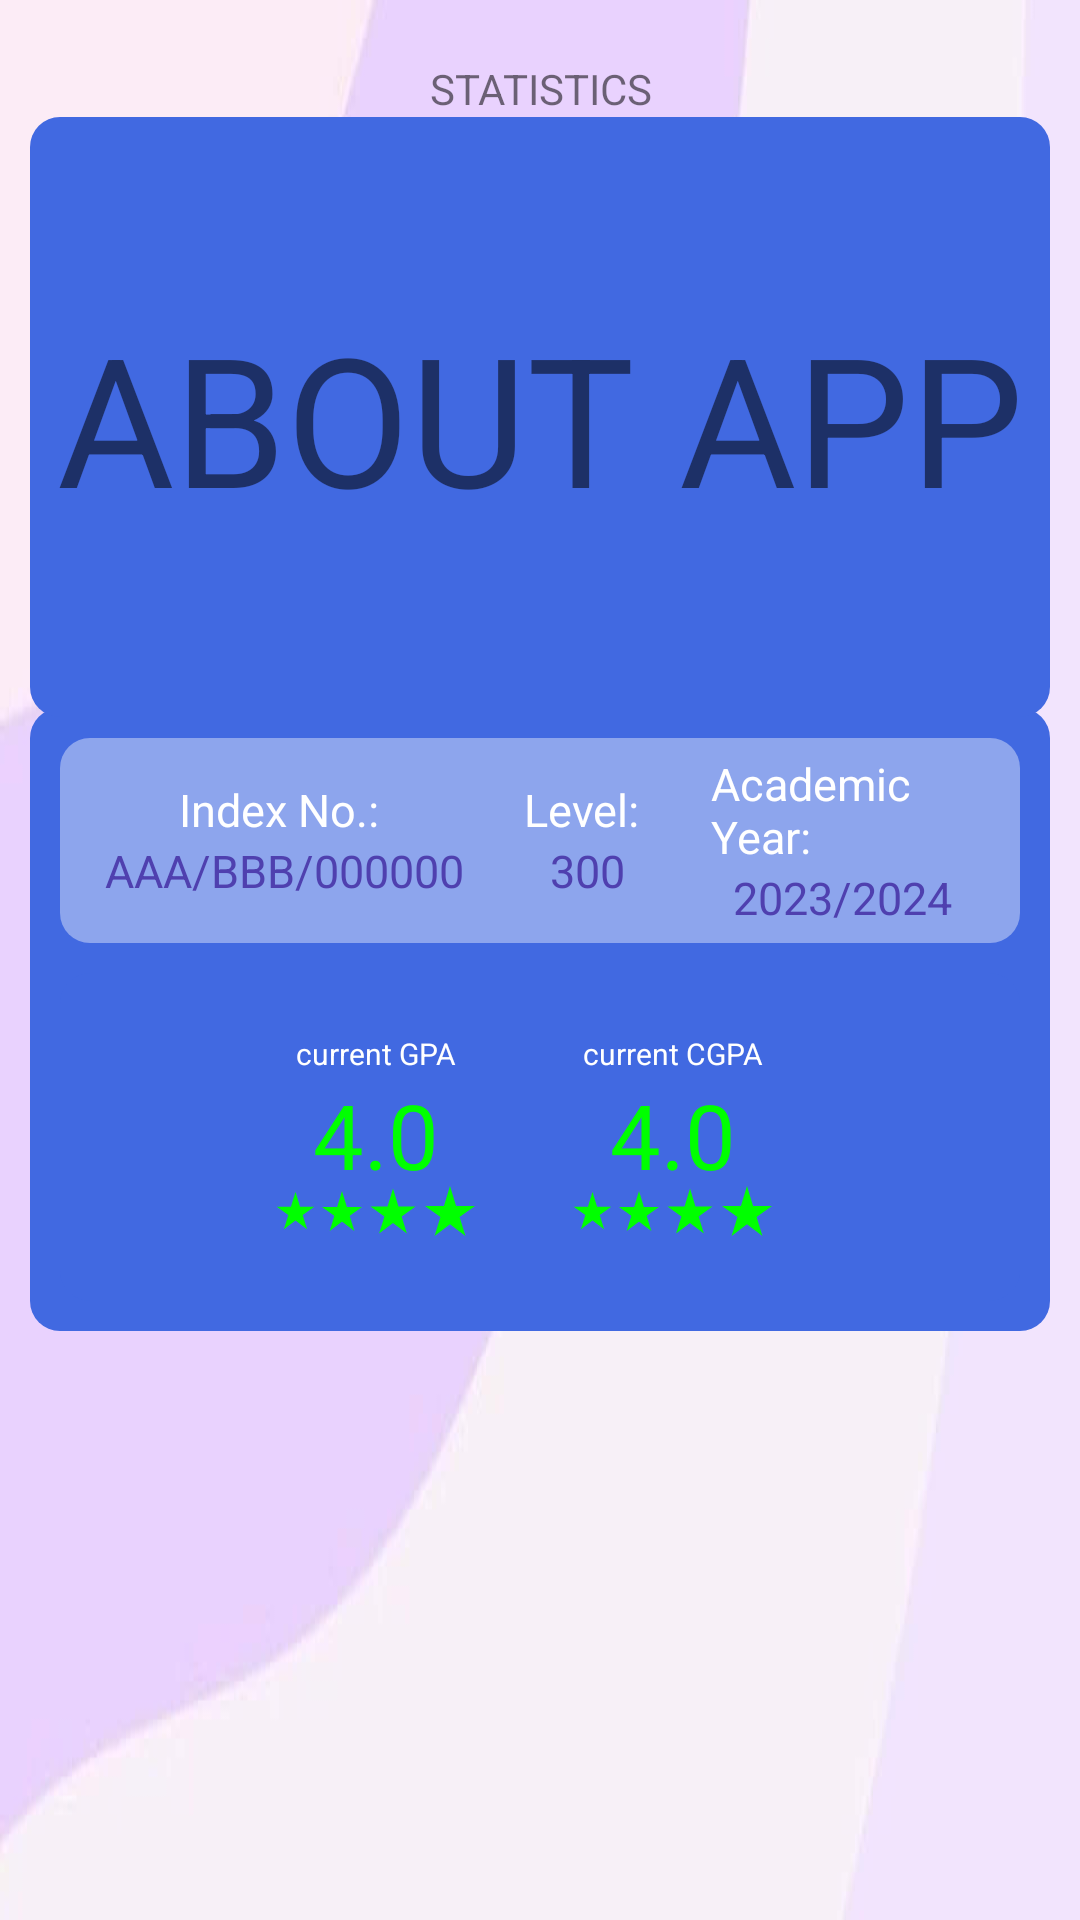

Screen size 1080×1920. Icon name, then its box in pixels as box(x1, y1, x2, y2):
star rate: box(425, 1186, 475, 1236), box(722, 1186, 772, 1236), box(371, 1189, 415, 1234), box(668, 1189, 712, 1234), box(322, 1191, 362, 1231), box(619, 1191, 659, 1231), box(277, 1192, 314, 1229), box(574, 1192, 611, 1229)
